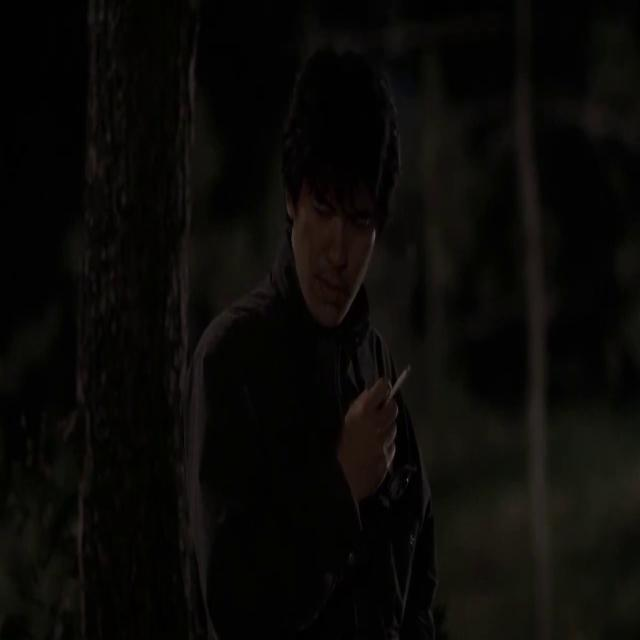Smooking: (388, 347, 418, 417)
